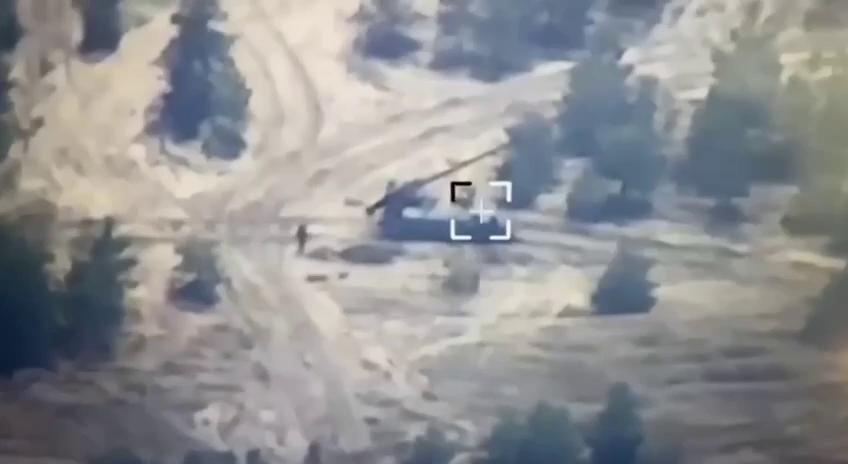tank: (364, 146, 516, 247)
